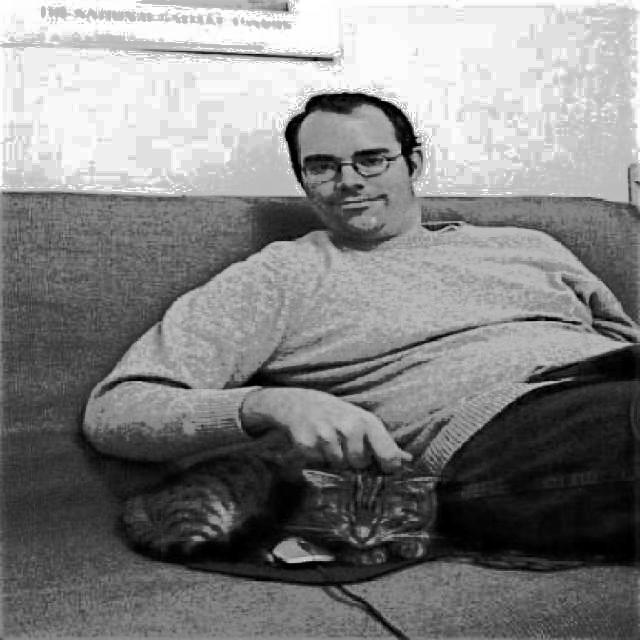Cat: (119, 430, 452, 572)
Person: (78, 83, 640, 549)
